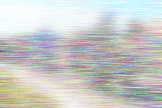Vehicle: (78, 11, 136, 102), (121, 19, 159, 72), (30, 26, 64, 73), (10, 32, 35, 66)
